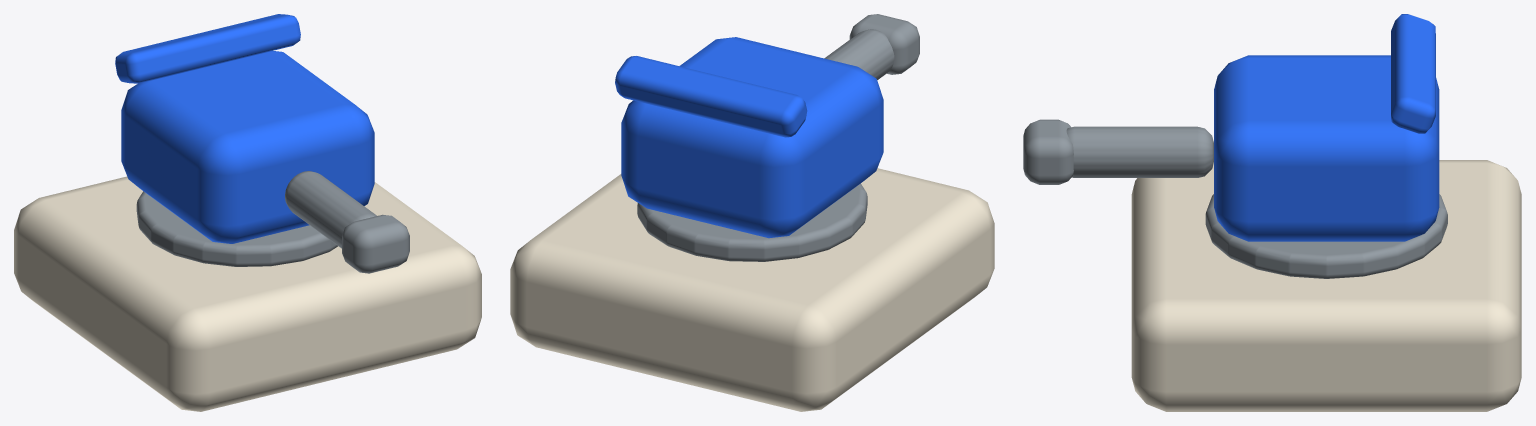
Rendered from gun_turret.glb.
The picture shows the model from 3 angles, left to right: view 1: azimuth 30°, elevation 25°; view 2: azimuth 150°, elevation 25°; view 3: azimuth 270°, elevation 25°; orthographic projection. The views are drawn at different scales.
Parts seen in each view (by area): view 1: stage_2__M_CreamPlastic, turret__M_Team, barrel__M_SpringSteel, turret__M_SpringSteel; view 2: stage_2__M_CreamPlastic, turret__M_Team, turret__M_SpringSteel, barrel__M_SpringSteel; view 3: stage_2__M_CreamPlastic, turret__M_Team, barrel__M_SpringSteel, turret__M_SpringSteel.
Part boxes in pixels (left/top/right/bottom): stage_2__M_CreamPlastic: left=14, top=176, right=481, bottom=411; turret__M_Team: left=115, top=14, right=374, bottom=243; barrel__M_SpringSteel: left=285, top=171, right=409, bottom=273; turret__M_SpringSteel: left=136, top=191, right=337, bottom=266; stage_2__M_CreamPlastic: left=510, top=168, right=994, bottom=411; turret__M_Team: left=615, top=37, right=883, bottom=238; turret__M_SpringSteel: left=637, top=183, right=867, bottom=261; barrel__M_SpringSteel: left=824, top=14, right=919, bottom=79; stage_2__M_CreamPlastic: left=1131, top=160, right=1521, bottom=411; turret__M_Team: left=1214, top=14, right=1439, bottom=241; barrel__M_SpringSteel: left=1023, top=119, right=1213, bottom=184; turret__M_SpringSteel: left=1205, top=194, right=1447, bottom=278.
Size of the model in its own units: 0.9 by 0.7259 by 1.15.
